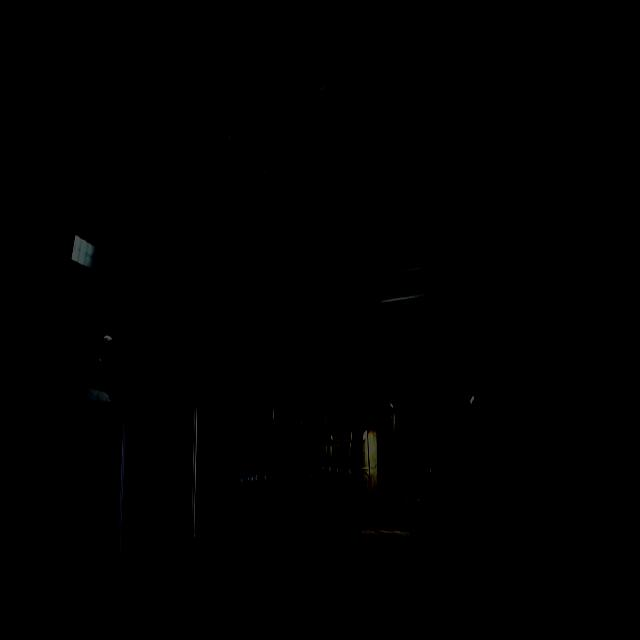Dog: (281, 440, 337, 609), (399, 439, 448, 611), (337, 444, 381, 600)
